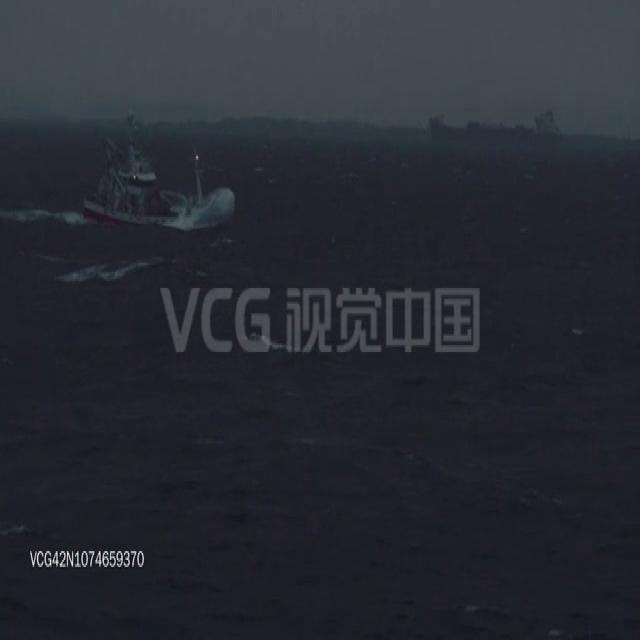houseboat: (76, 139, 236, 229)
